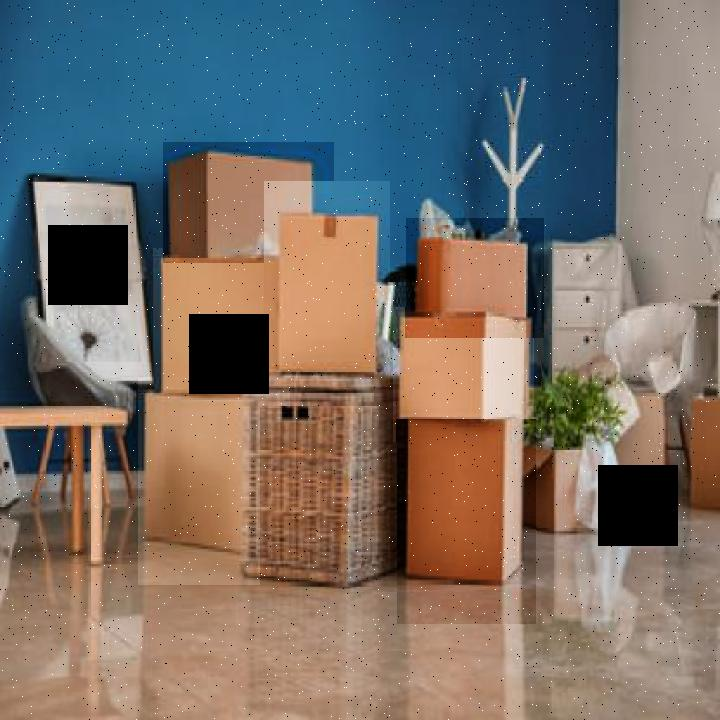box: (398, 420, 538, 625), (264, 181, 390, 387), (138, 377, 260, 585), (153, 248, 290, 408), (163, 142, 334, 263), (394, 307, 536, 442), (406, 218, 544, 338)
